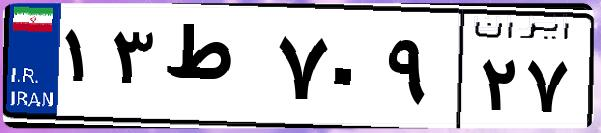0: (330, 28, 385, 110)
1: (57, 26, 110, 100)
2: (475, 38, 525, 113)
3: (110, 28, 158, 98)
7: (270, 28, 330, 110), (525, 38, 570, 115)
9: (385, 28, 445, 110)
ط: (158, 20, 270, 120)
